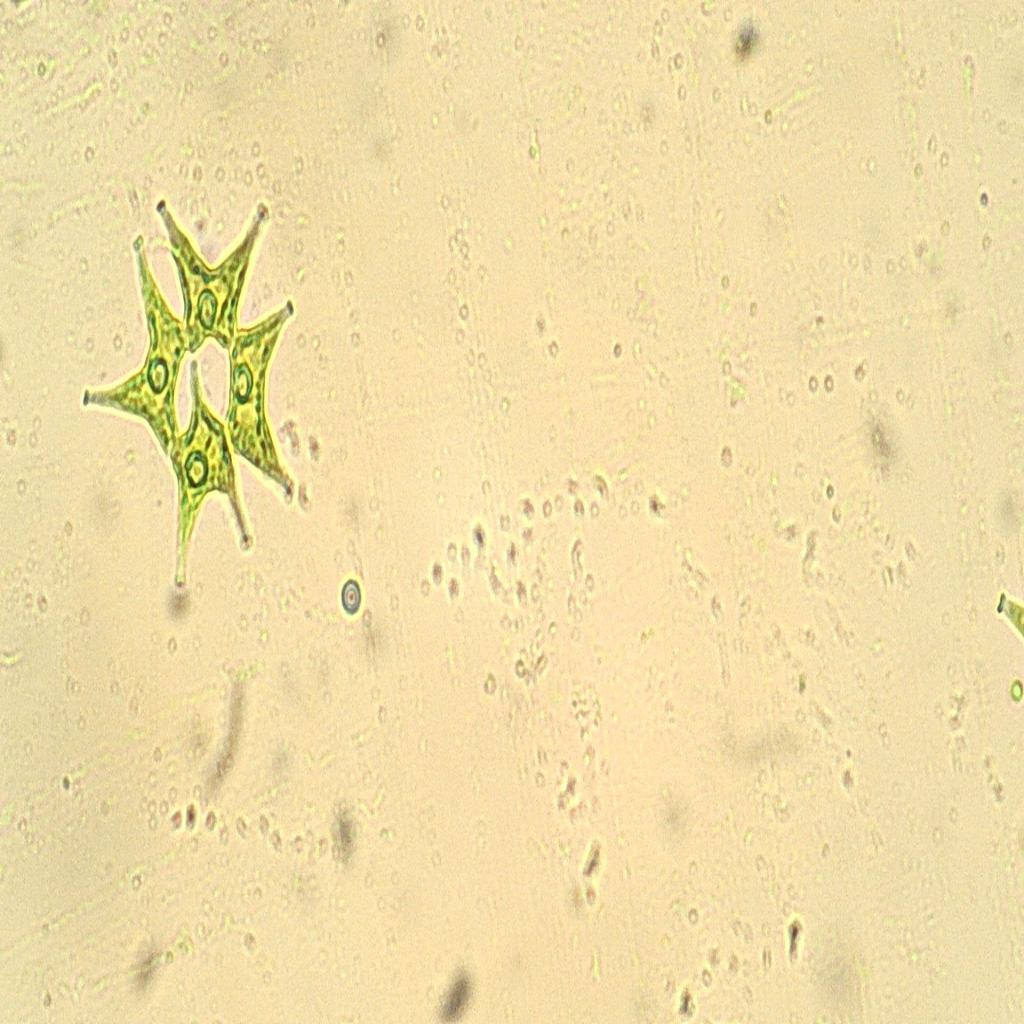Pediastrum_75FO: (68, 170, 319, 610)
